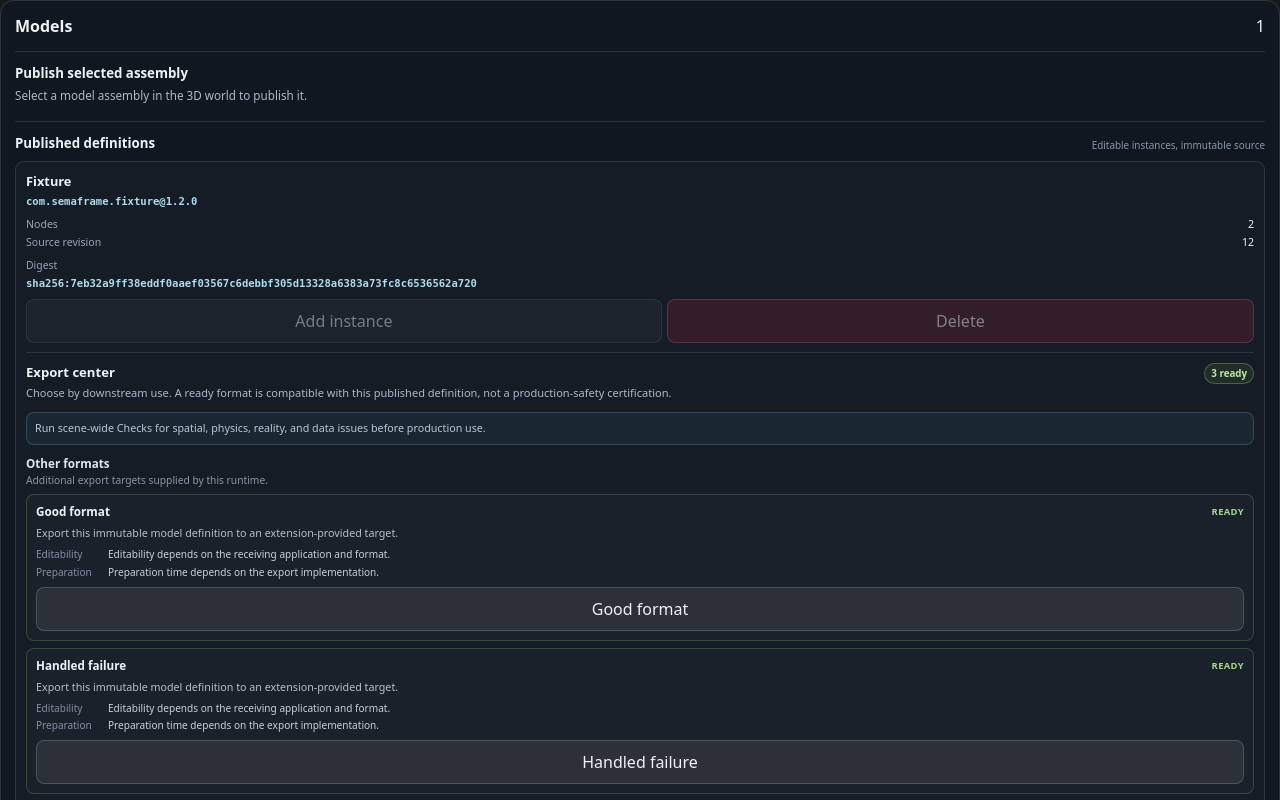
Scenario: Workspace model library › announces honest export completion, handled failure, and thrown errors
Click the button "Good format" at (640, 609), box [36,587,1244,631]
(page scrolled)
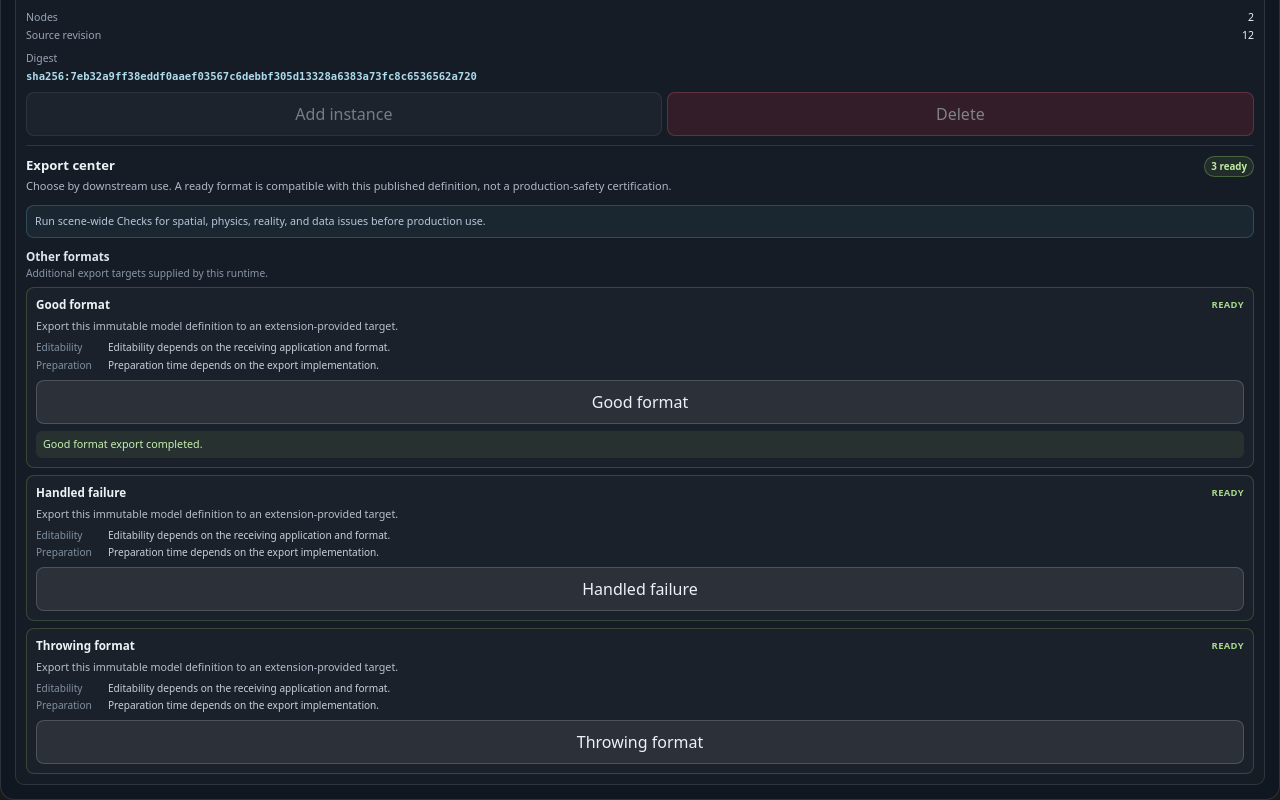
Expected: the message shows "Good format export completed", [43,437,202,451]
Click the button "Handled failure" at (640, 589), box [36,567,1244,611]
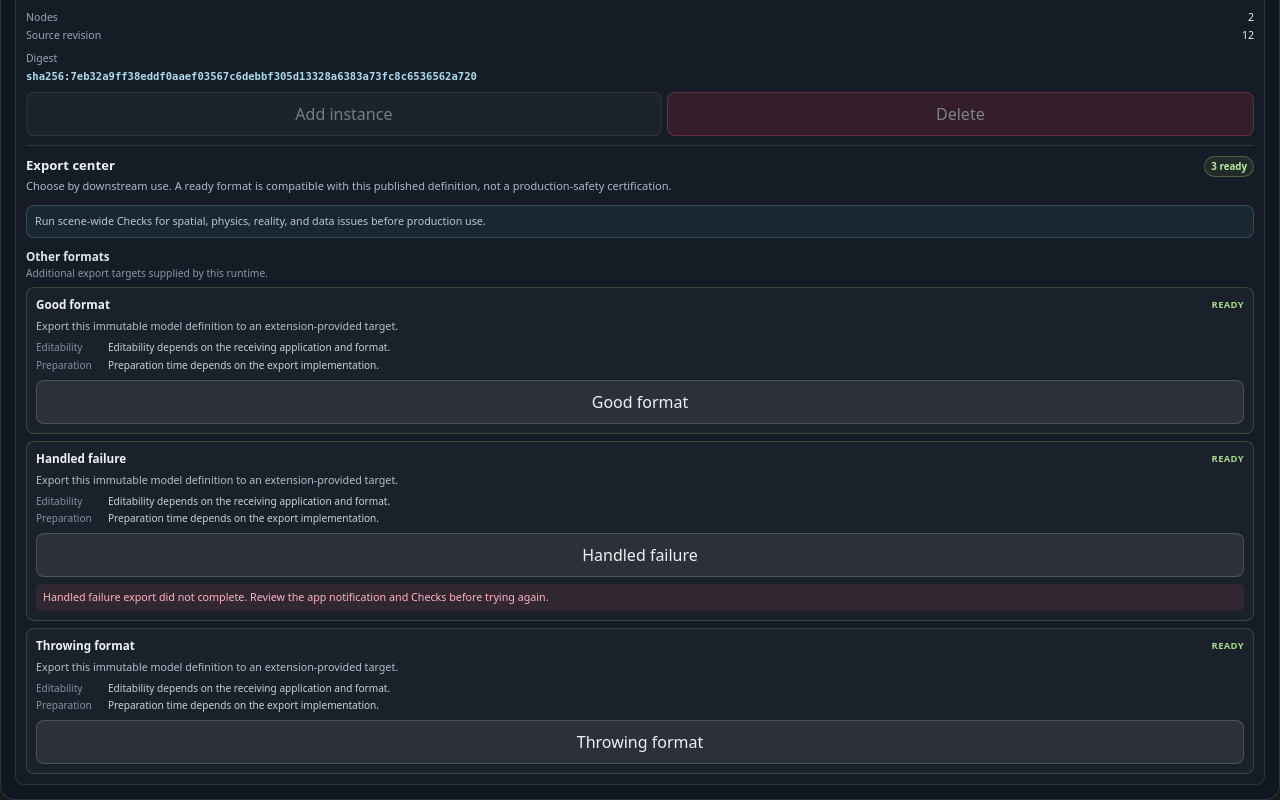
Expected: the message shows "did not complete", [43,590,548,604]
Click the button "Throwing format" at (640, 742), box [36,720,1244,764]
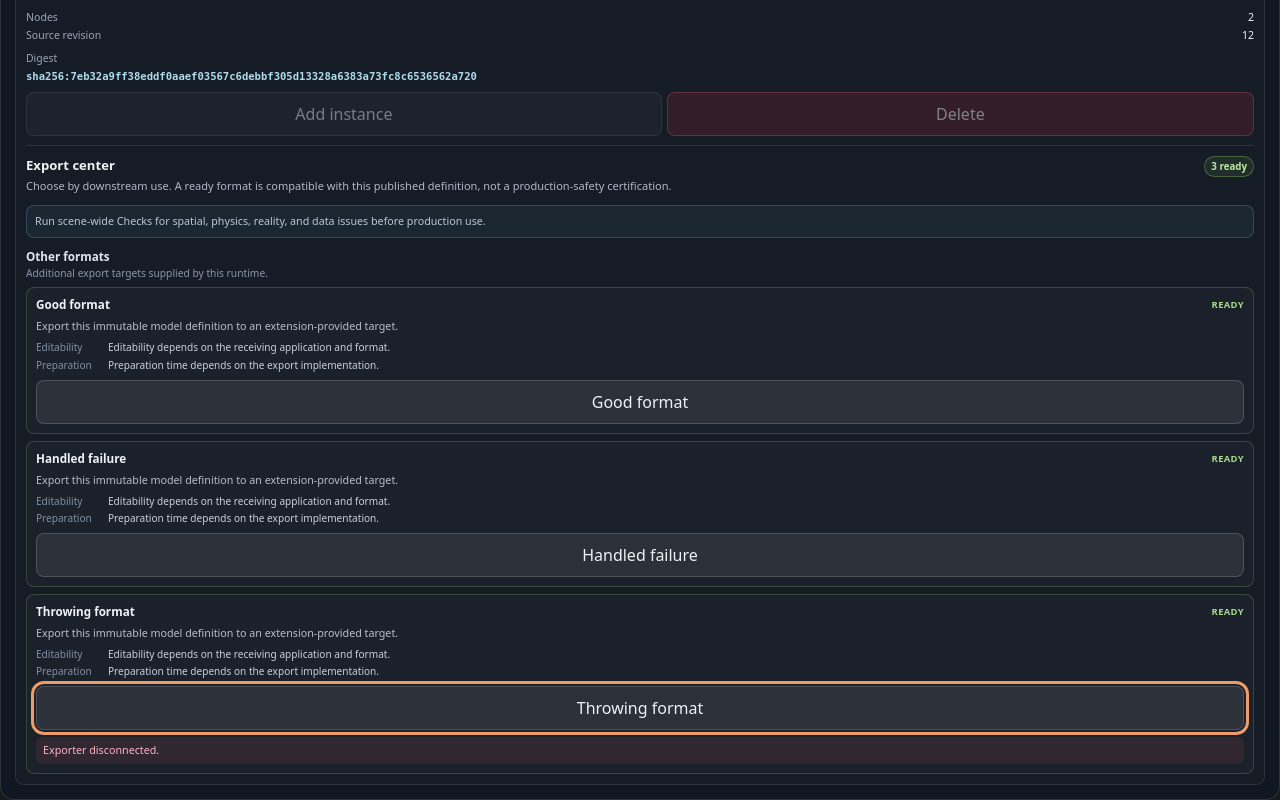
Expected: the message shows "Exporter disconnected", [43,743,159,757]
